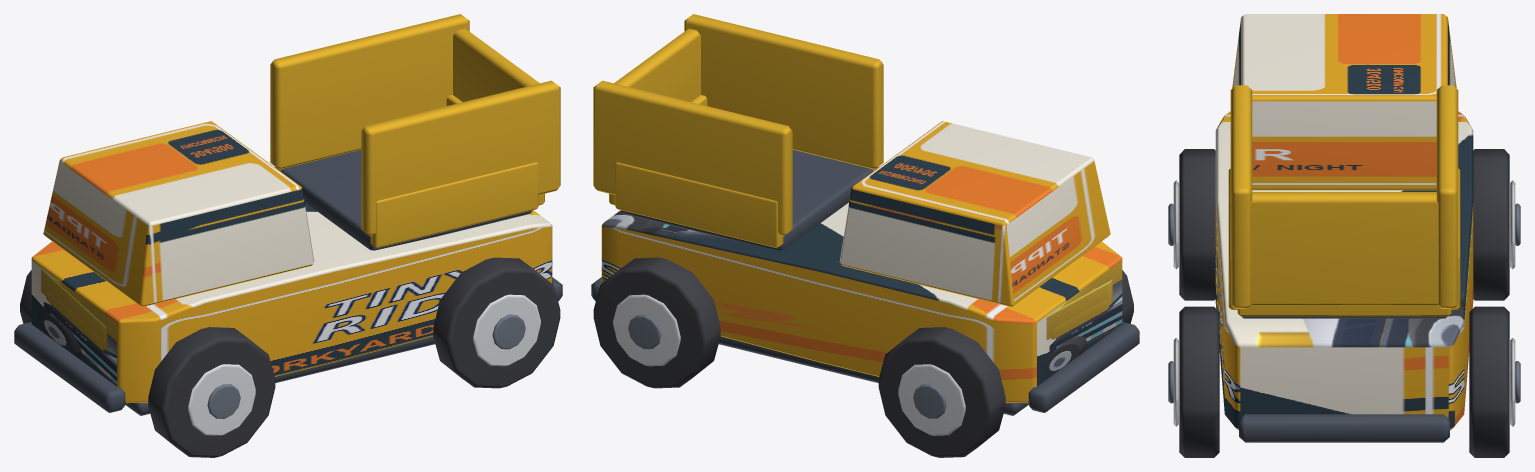
The picture shows the model from 3 angles, left to right: view 1: azimuth 30°, elevation 25°; view 2: azimuth 150°, elevation 25°; view 3: azimuth 270°, elevation 25°; orthographic projection. The views are drawn at different scales.
Parts seen in each view (by area): view 1: WY-01_connected_shell, WY-01_cabin, raised tipper wall.001, raised tipper wall, Tire, Tire.002, cargo side, cargo floor, raised tail gate, front bumper, Rim, Rim.002 (+3 smaller); view 2: WY-01_connected_shell, WY-01_cabin, raised tipper wall, raised tipper wall.001, Tire.001, Tire.003, cargo side.001, cargo floor, raised tail gate, front bumper, Rim.001, Rim.003 (+3 smaller); view 3: WY-01_cabin, WY-01_connected_shell, raised tail gate, Tire.002, Tire.003, rear bumper, Tire, Tire.001, raised tipper wall, raised tipper wall.001, cargo tail, cargo floor (+6 smaller).
Boxes of the visible parts, bbox=[...] form: WY-01_connected_shell: bbox=[31, 202, 552, 403]; WY-01_cabin: bbox=[43, 121, 314, 307]; raised tipper wall.001: bbox=[270, 14, 469, 169]; raised tipper wall: bbox=[361, 80, 560, 235]; Tire: bbox=[148, 327, 275, 457]; Tire.002: bbox=[433, 257, 560, 388]; cargo side: bbox=[370, 162, 538, 248]; cargo floor: bbox=[280, 150, 532, 250]; raised tail gate: bbox=[453, 28, 539, 101]; front bumper: bbox=[14, 322, 125, 412]; Rim: bbox=[188, 364, 255, 435]; Rim.002: bbox=[473, 294, 540, 366]; WY-01_connected_shell: bbox=[601, 202, 1122, 403]; WY-01_cabin: bbox=[839, 121, 1110, 307]; raised tipper wall: bbox=[684, 14, 883, 169]; raised tipper wall.001: bbox=[593, 80, 792, 235]; Tire.001: bbox=[878, 327, 1005, 457]; Tire.003: bbox=[593, 257, 720, 388]; cargo side.001: bbox=[615, 162, 783, 248]; cargo floor: bbox=[621, 150, 873, 250]; raised tail gate: bbox=[614, 28, 700, 101]; front bumper: bbox=[1028, 322, 1139, 412]; Rim.001: bbox=[898, 364, 965, 435]; Rim.003: bbox=[613, 294, 680, 366]; WY-01_cabin: bbox=[1232, 14, 1456, 190]; WY-01_connected_shell: bbox=[1215, 111, 1473, 430]; raised tail gate: bbox=[1250, 192, 1438, 305]; Tire.002: bbox=[1179, 306, 1219, 457]; Tire.003: bbox=[1469, 306, 1509, 457]; rear bumper: bbox=[1239, 414, 1449, 442]; Tire: bbox=[1179, 149, 1215, 300]; Tire.001: bbox=[1473, 149, 1509, 300]; raised tipper wall: bbox=[1230, 85, 1252, 308]; raised tipper wall.001: bbox=[1436, 85, 1458, 308]; cargo tail: bbox=[1237, 306, 1451, 316]; cargo floor: bbox=[1241, 316, 1447, 318].
Size of the model in its own units: 387 by 216 by 227.
